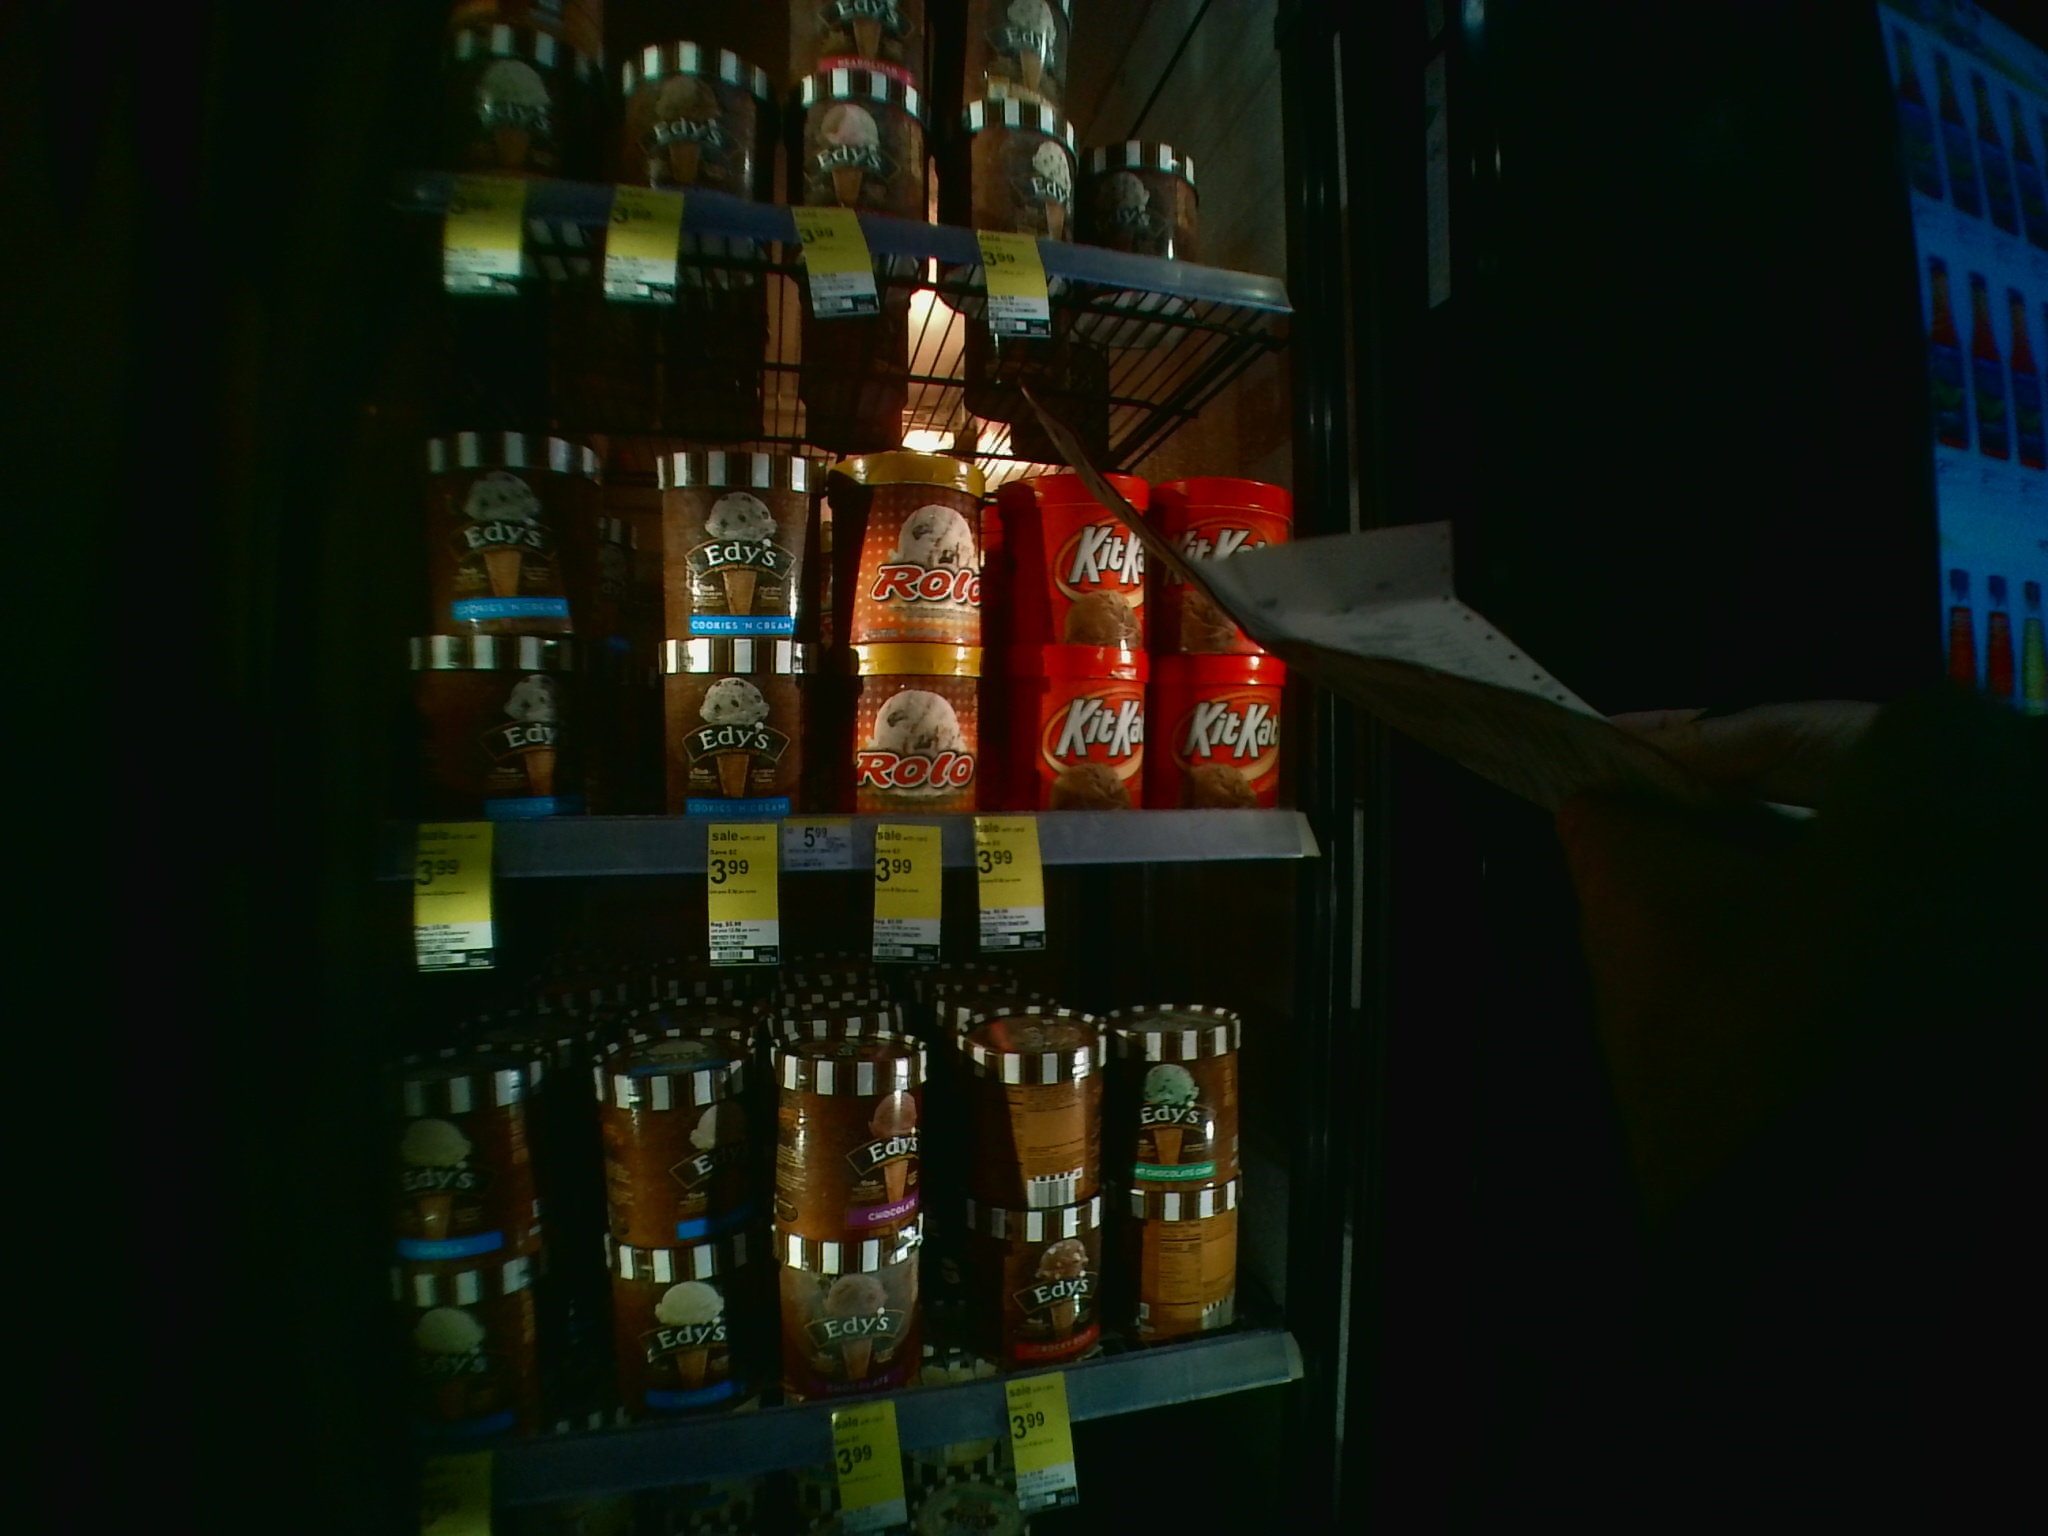shelf: (374, 236, 1316, 868), (369, 884, 1321, 1497)
